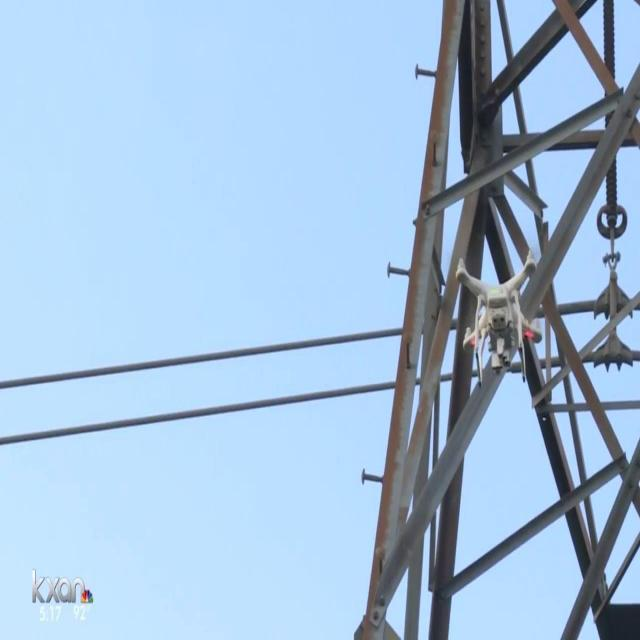UAV: (456, 248, 537, 389)
